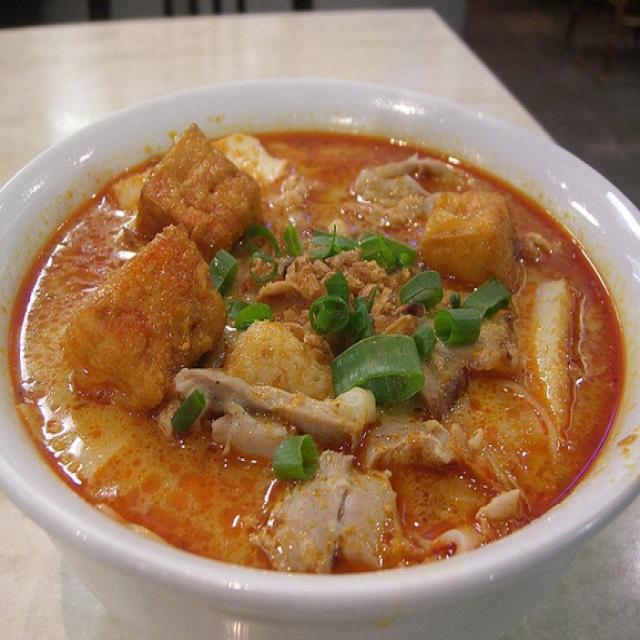面条主食: (8, 81, 633, 599)
